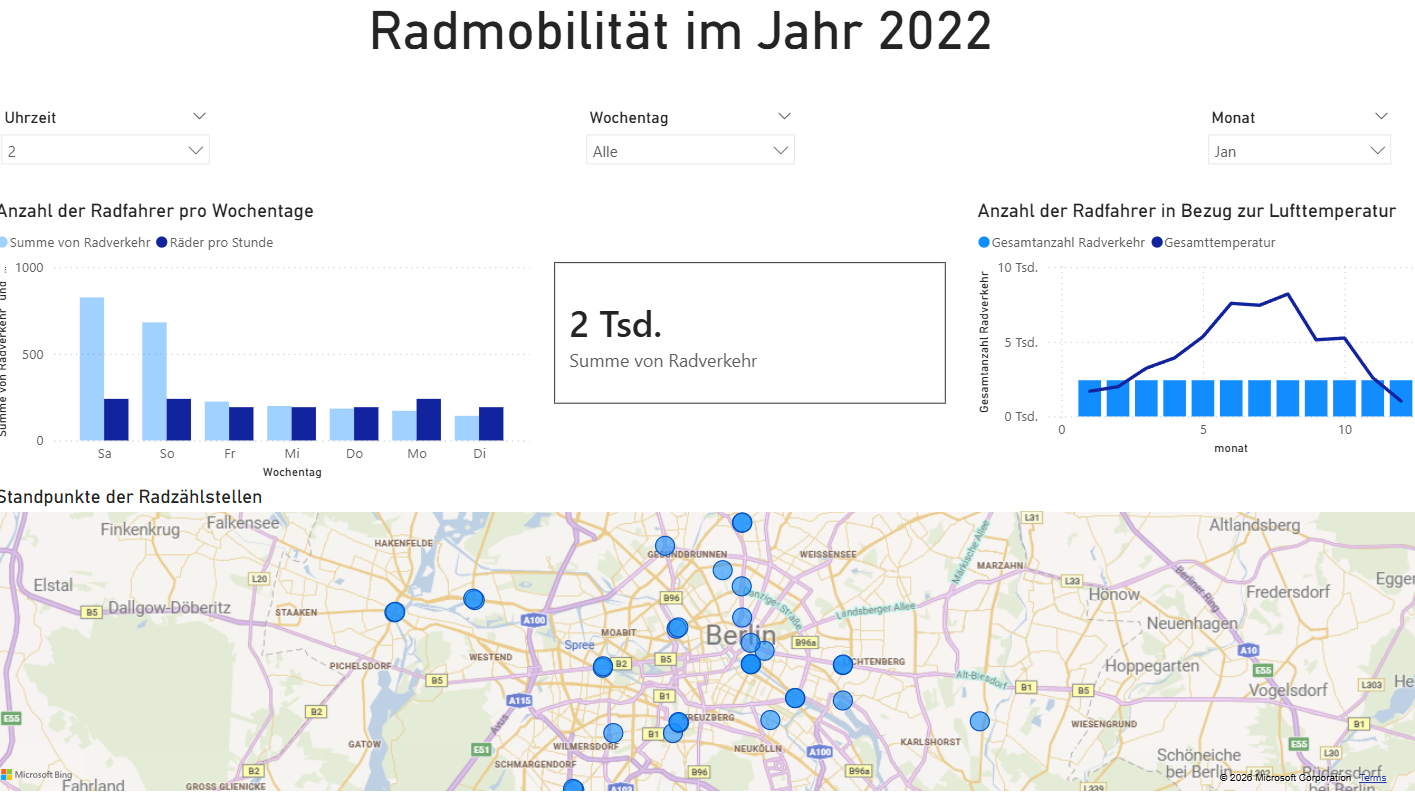

This screenshot's page, from the dashboard's own definition file:
{"tool":"powerbi","page":{"name":"Seite 1","canvas":[1280,720],"ordinal":0},"visuals":[{"type":"clusteredColumnChart","title":"Anzahl der Radfahrer pro Wochentage","fields":{"Y":["Sum(radverkehr1_2022.Anzahl)","Sum(radverkehr1_2022.Stunde)"],"Category":["radverkehr1_2022.Wochentag"]},"box":[0,206.9,488.1,233.7],"z":0},{"type":"map","title":"Standpunkte der Radzählstellen","fields":{"Y":["zaehlstellen.Breitengrad"],"X":["zaehlstellen.Laengengrad"]},"box":[0,440.6,1280.6,279.4],"z":1000},{"type":"slicer","fields":{"Values":["radverkehr1_2022.Monat_Name"]},"box":[1080.9,98.5,184.5,75.2],"z":2000},{"type":"textbox","box":[334,0,587.5,81.5],"z":3000},{"type":"slicer","fields":{"Values":["radverkehr1_2022.Wochentag"]},"box":[523.9,98.5,206.9,59.1],"z":4000},{"type":"slicer","title":"Uhrzeit","fields":{"Values":["radverkehr1_2022.Stunde"]},"box":[0,98.5,206.9,59.1],"z":5000},{"type":"lineClusteredColumnComboChart","title":"Anzahl der Radfahrer in Bezug zur Lufttemperatur","fields":{"Category":["wetterdaten_Berlin_2022_PowerBI.monat"],"Y":["Sum(radverkehr1_2022.Anzahl)"],"Y2":["Sum(wetterdaten_Berlin_2022_PowerBI.temperatur_max)"]},"box":[879.4,184.5,400.3,233.7],"z":6000},{"type":"cardVisual","fields":{"Data":["Sum(radverkehr1_2022.Anzahl)"]},"box":[488.1,223.9,385.1,161.2],"z":7000}]}

Visuals, with their boxes in screenshot pixels (x1, y1, x2, y2), scaled from the page's 1280x720 canvas onto the 1415x793 screenshot:
"Anzahl der Radfahrer pro Wochentage" clusteredColumnChart: box=[0, 228, 540, 485]
"Standpunkte der Radzählstellen" map: box=[0, 485, 1414, 792]
slicer - radverkehr1_2022.Monat_Name: box=[1195, 108, 1399, 191]
textbox: box=[369, 0, 1019, 90]
slicer - radverkehr1_2022.Wochentag: box=[579, 108, 808, 174]
"Uhrzeit" slicer: box=[0, 108, 229, 174]
"Anzahl der Radfahrer in Bezug zur Lufttemperatur" lineClusteredColumnComboChart: box=[972, 203, 1414, 461]
cardVisual - Sum(radverkehr1_2022.Anzahl): box=[540, 247, 965, 424]
